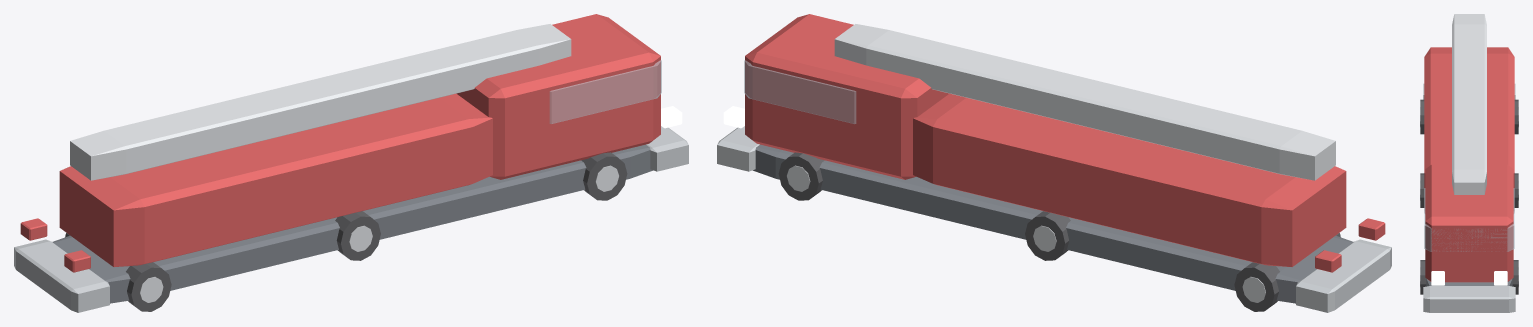
Rendered from b15_tiller_ladder_fire_truck.glb.
3 renders of one model, left to right at view 1: azimuth 30°, elevation 25°; view 2: azimuth 150°, elevation 25°; view 3: azimuth 270°, elevation 25°, orthographic. The views are drawn at different scales.
Parts seen in each view (by area): view 1: b15_tiller_ladder_fire_truck; view 2: b15_tiller_ladder_fire_truck; view 3: b15_tiller_ladder_fire_truck.
Boxes of the visible parts, box(x1,y1,x2,y2) form: b15_tiller_ladder_fire_truck: box(14, 14, 688, 312); b15_tiller_ladder_fire_truck: box(717, 14, 1391, 312); b15_tiller_ladder_fire_truck: box(1420, 14, 1518, 312).
Bounding box in the file's own units: 15.93 × 3.69 × 3.08.
